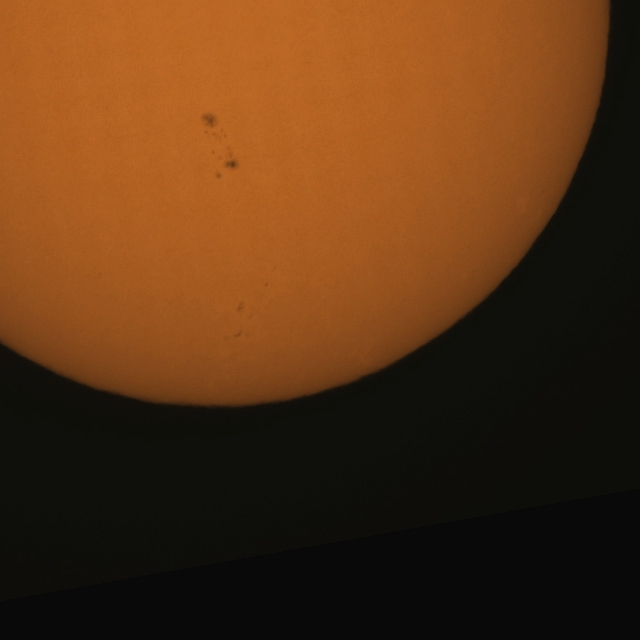sunspot: (200, 112, 228, 144), (212, 147, 238, 179), (235, 297, 252, 324), (235, 300, 248, 316), (233, 330, 243, 339), (262, 281, 269, 288)
